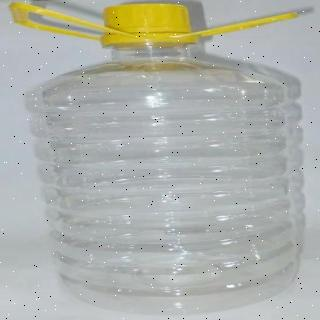Plastic-bottle: (9, 2, 311, 318)
